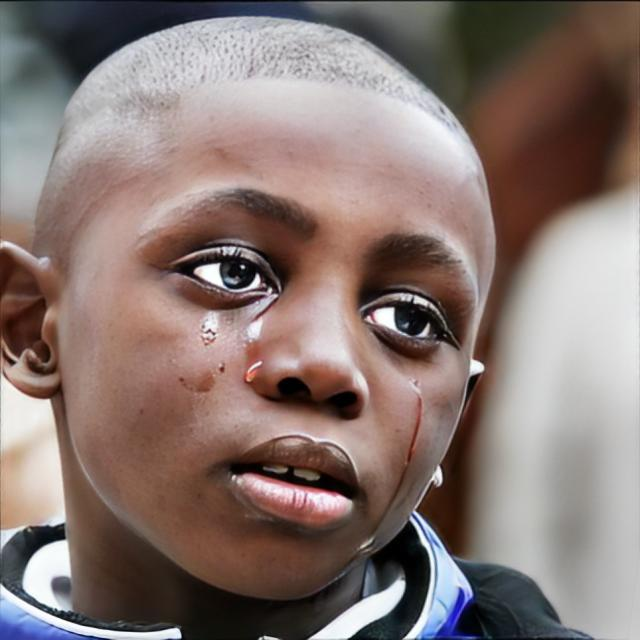sad: (62, 68, 498, 602)
